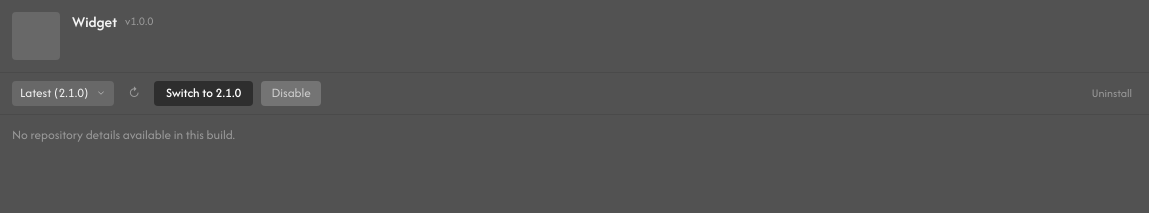
it: ExtensionDetail version picker › blocks a version that needs a newer Safelight
Click the dropdown named "Version" at [63, 93], box [12,81,114,106]
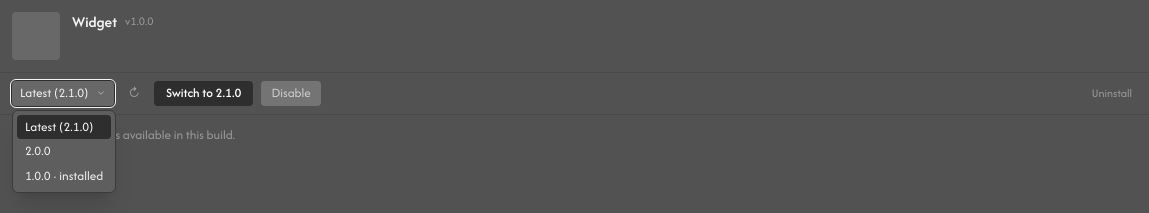
Click the option "2.0.0" at [38, 150], box [25,142,51,159]
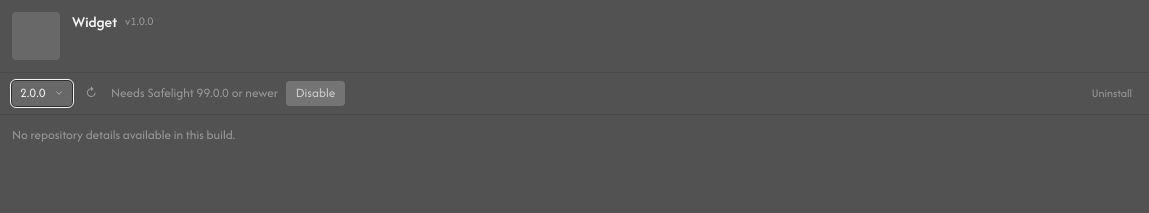
expect the text "Needs Safelight 99.0.0 or newer" is shown: met, box [111,85,278,102]
